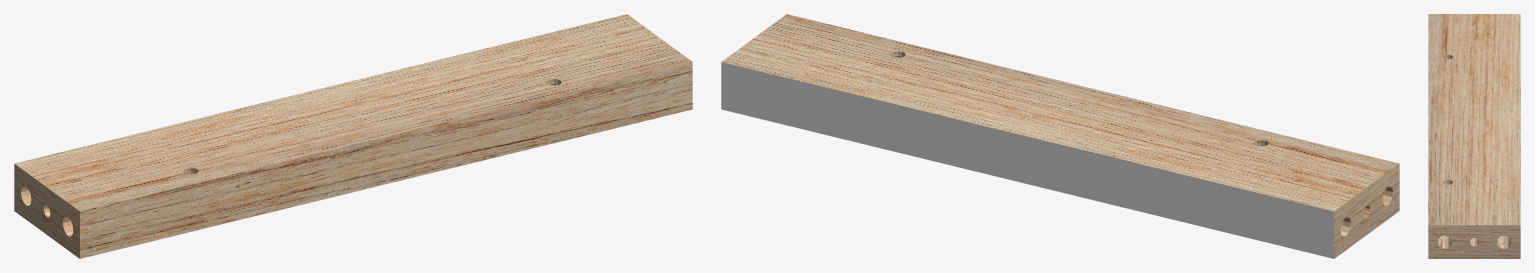
Rendered from Ikea_stefan_short.obj.
The picture shows the model from 3 angles, left to right: view 1: azimuth 30°, elevation 25°; view 2: azimuth 150°, elevation 25°; view 3: azimuth 270°, elevation 25°; orthographic projection. The views are drawn at different scales.
Visible parts, largest first — view 1: Ikea_Stefan_Short; view 2: Ikea_Stefan_Short; view 3: Ikea_Stefan_Short.
Boxes of the visible parts, left/top/right/bottom form: Ikea_Stefan_Short: left=14, top=14, right=692, bottom=258; Ikea_Stefan_Short: left=721, top=14, right=1399, bottom=258; Ikea_Stefan_Short: left=1428, top=14, right=1520, bottom=258.
Bounding box in the file's own units: 0.27 × 0.02 × 0.05.
